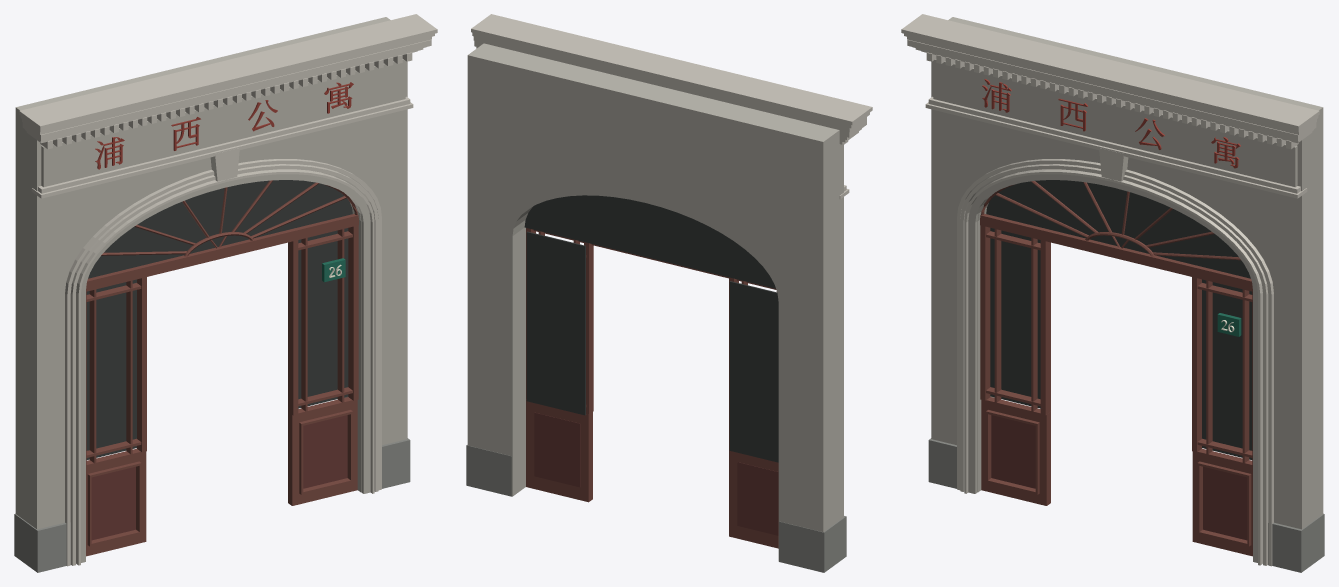
File: hongkou-pearce-apartments-panlong-portal-lod.glb
The picture shows the model from 3 angles, left to right: view 1: azimuth 30°, elevation 25°; view 2: azimuth 150°, elevation 25°; view 3: azimuth 330°, elevation 25°; orthographic projection. The views are drawn at different scales.
Parts seen in each view (by area): view 1: 浦西公寓蟠龙街26号题名券门; view 2: 浦西公寓蟠龙街26号题名券门; view 3: 浦西公寓蟠龙街26号题名券门.
Boxes of the visible parts, <box> form: 浦西公寓蟠龙街26号题名券门: <box>14,14,437,572</box>; 浦西公寓蟠龙街26号题名券门: <box>466,14,872,572</box>; 浦西公寓蟠龙街26号题名券门: <box>901,14,1324,572</box>.
Bounding box in the file's own units: 4.24 × 4.7 × 0.705.
